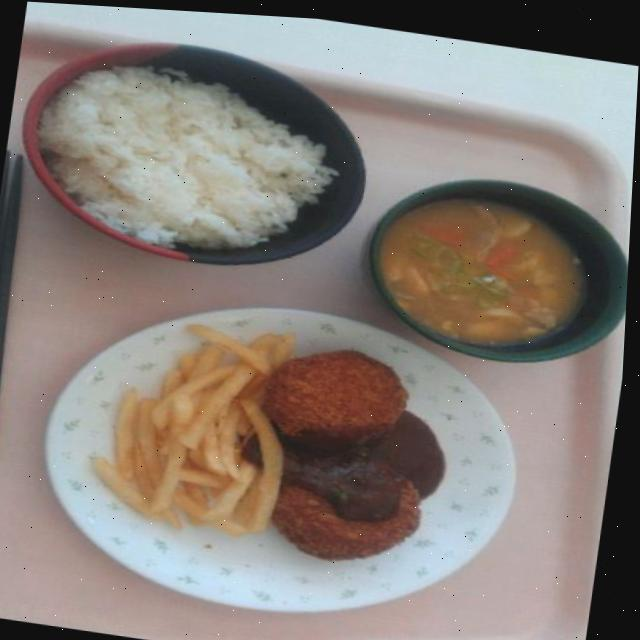炸货点心: (81, 319, 291, 545)
米饭主食: (0, 11, 378, 271)
